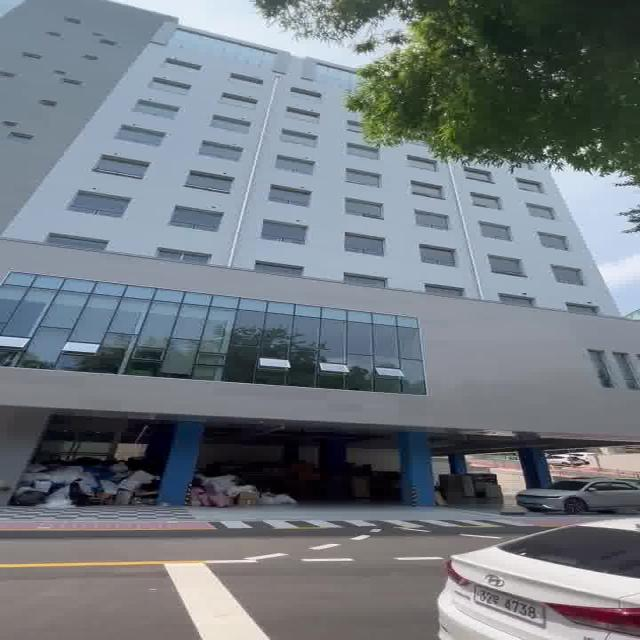building: (0, 139, 626, 453)
